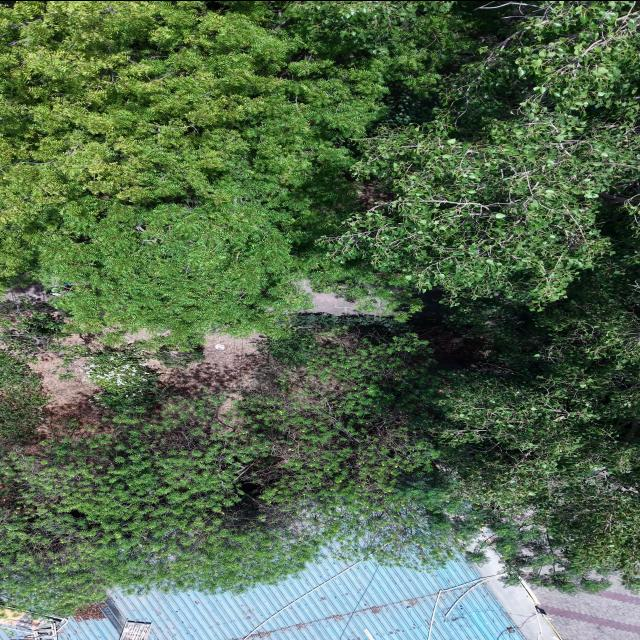DRY_AREA: (486, 576, 639, 639), (147, 334, 263, 410), (28, 334, 109, 437), (147, 334, 260, 405), (149, 334, 258, 398), (29, 353, 107, 437), (30, 352, 108, 436), (535, 578, 639, 639), (411, 290, 488, 369), (298, 281, 383, 315), (299, 282, 382, 315)
ROOFTOP_BUILDING: (52, 559, 522, 639), (119, 621, 150, 639)
VEGETATION_TREE: (0, 1, 639, 613), (1, 1, 463, 342), (1, 331, 475, 613), (326, 1, 639, 308), (418, 255, 639, 592), (0, 398, 317, 613), (242, 331, 479, 567), (0, 301, 65, 456), (0, 352, 46, 452)
